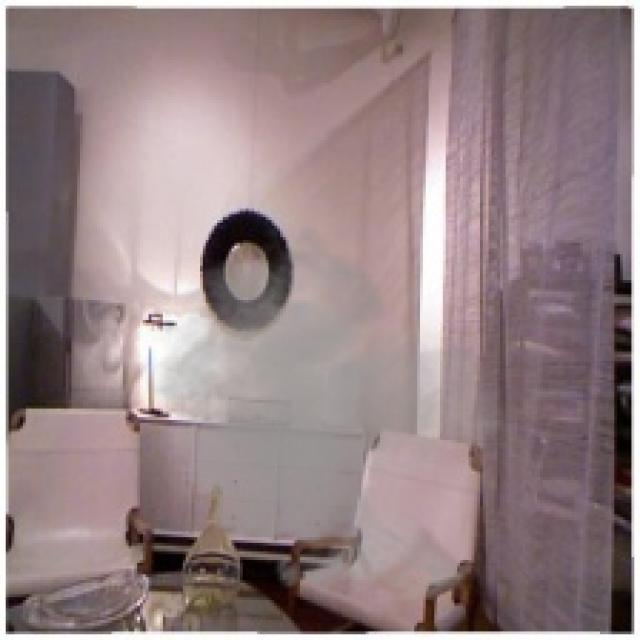smoke: (129, 223, 534, 611)
